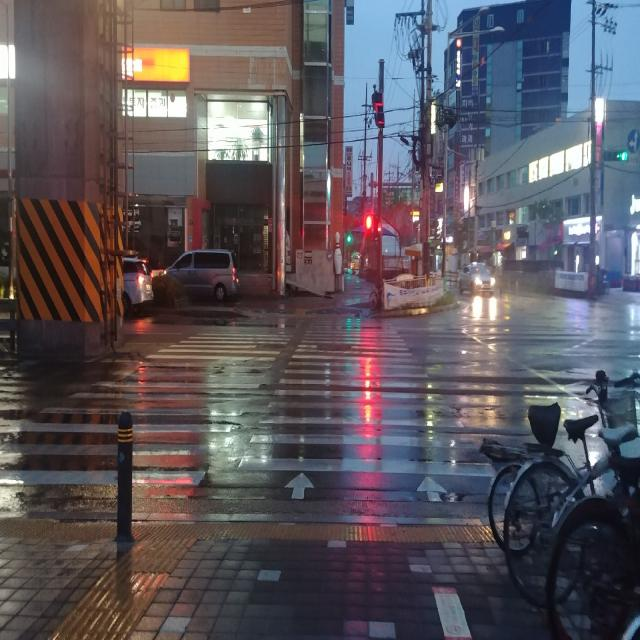빨간불: (365, 210, 375, 239)
횡단보도: (0, 314, 497, 505)
